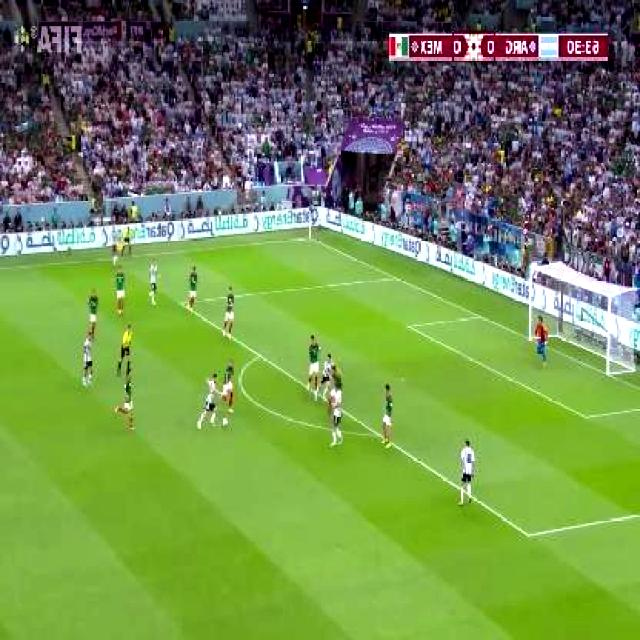bigarea_bottom_inner: (523, 526, 535, 543)
bigarea_top_inner: (180, 298, 188, 308)
bigarea_top_outter: (392, 274, 400, 281)
bottom_arc_area_intersection: (366, 424, 379, 438)
corner: (304, 235, 314, 240)
smallarea_bottom_inner: (582, 408, 592, 424)
smallarea_top_inner: (406, 322, 414, 331)
smallarea_top_outter: (477, 311, 485, 320)
top_arc_area_intersection: (256, 349, 264, 360)
